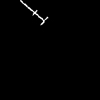double_crochet: (21, 1, 47, 24)
